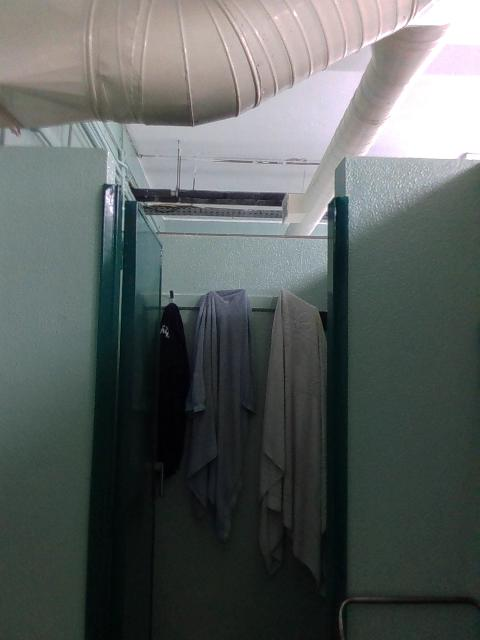open_door: (85, 149, 347, 638)
